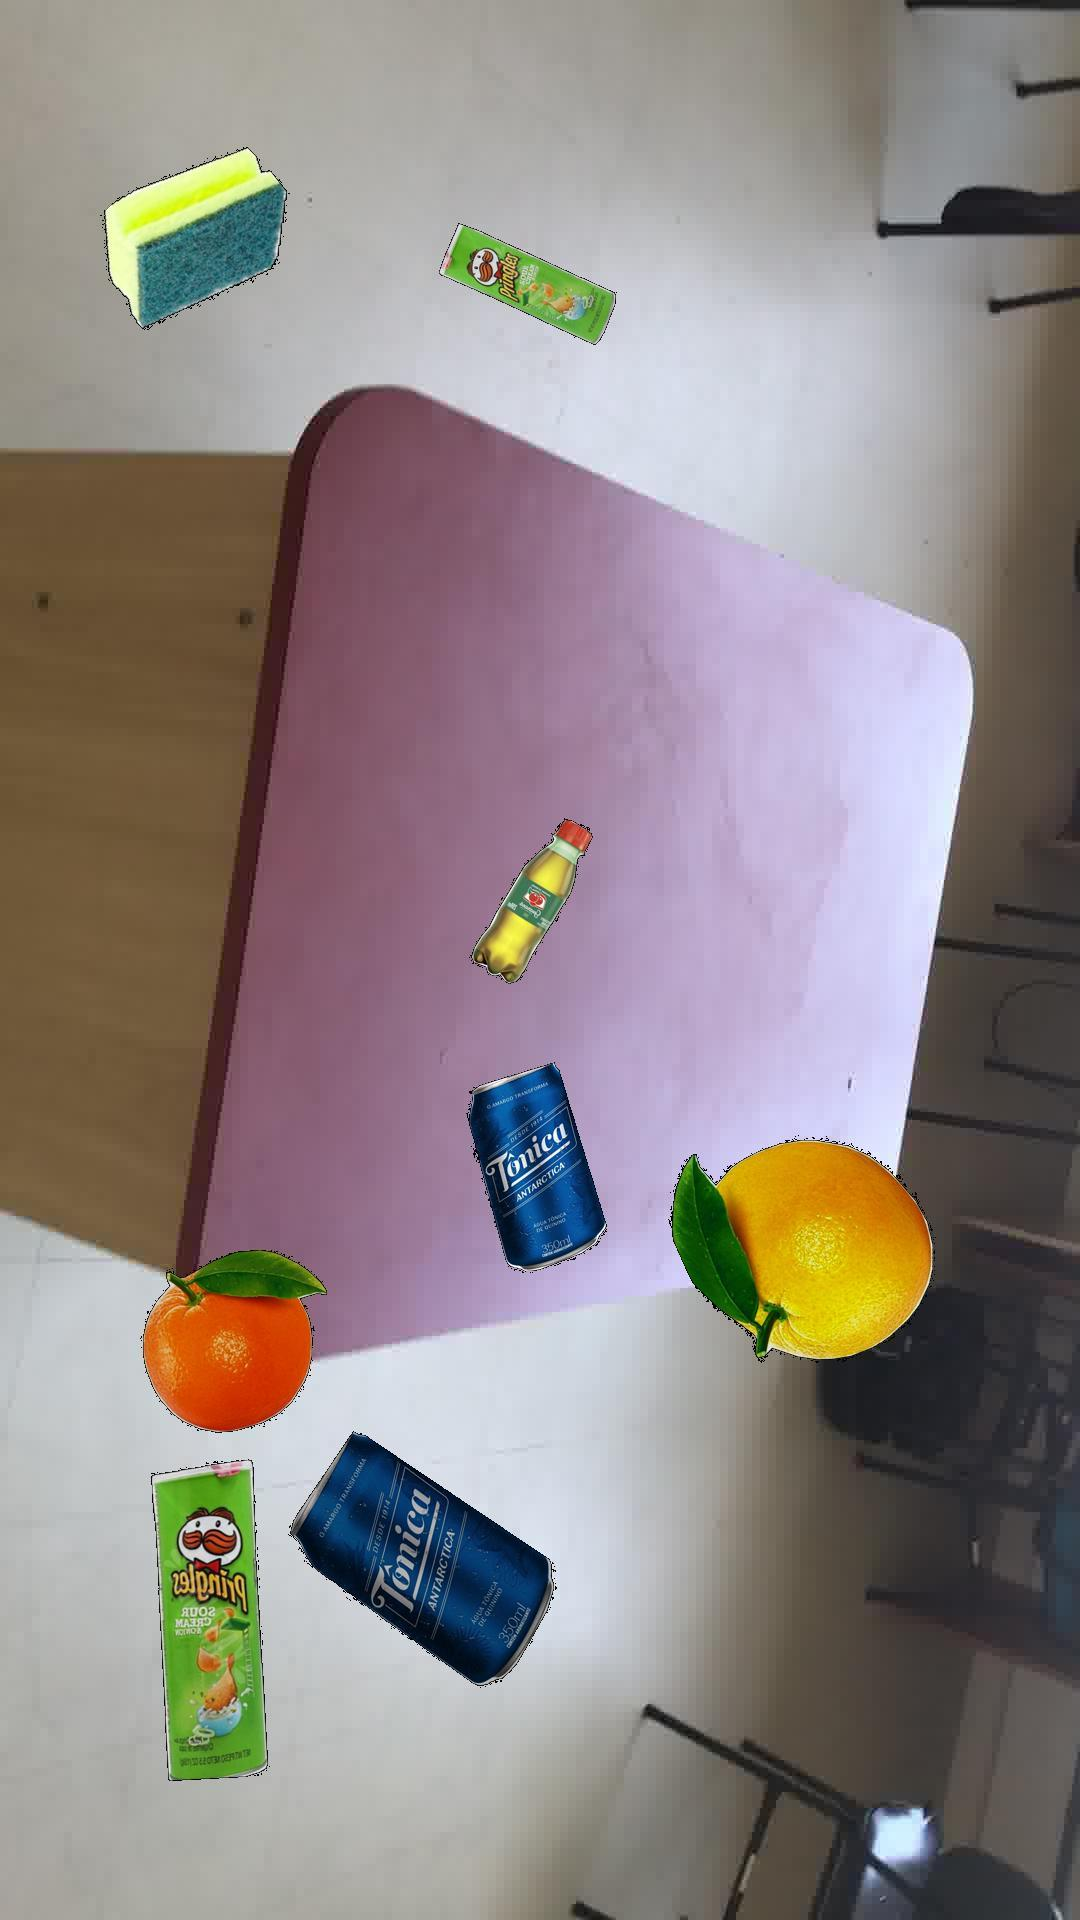guarana: (468, 818, 592, 982)
orange: (669, 1138, 934, 1360), (141, 1249, 326, 1432)
pringles: (149, 1457, 266, 1779), (438, 222, 615, 343)
sponge: (103, 145, 286, 327)
tonic: (289, 1429, 554, 1684), (467, 1060, 605, 1270)
